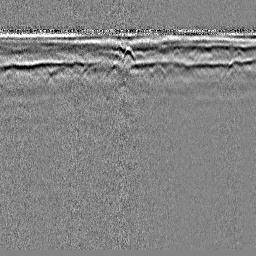cavity: (122, 45, 135, 58)
